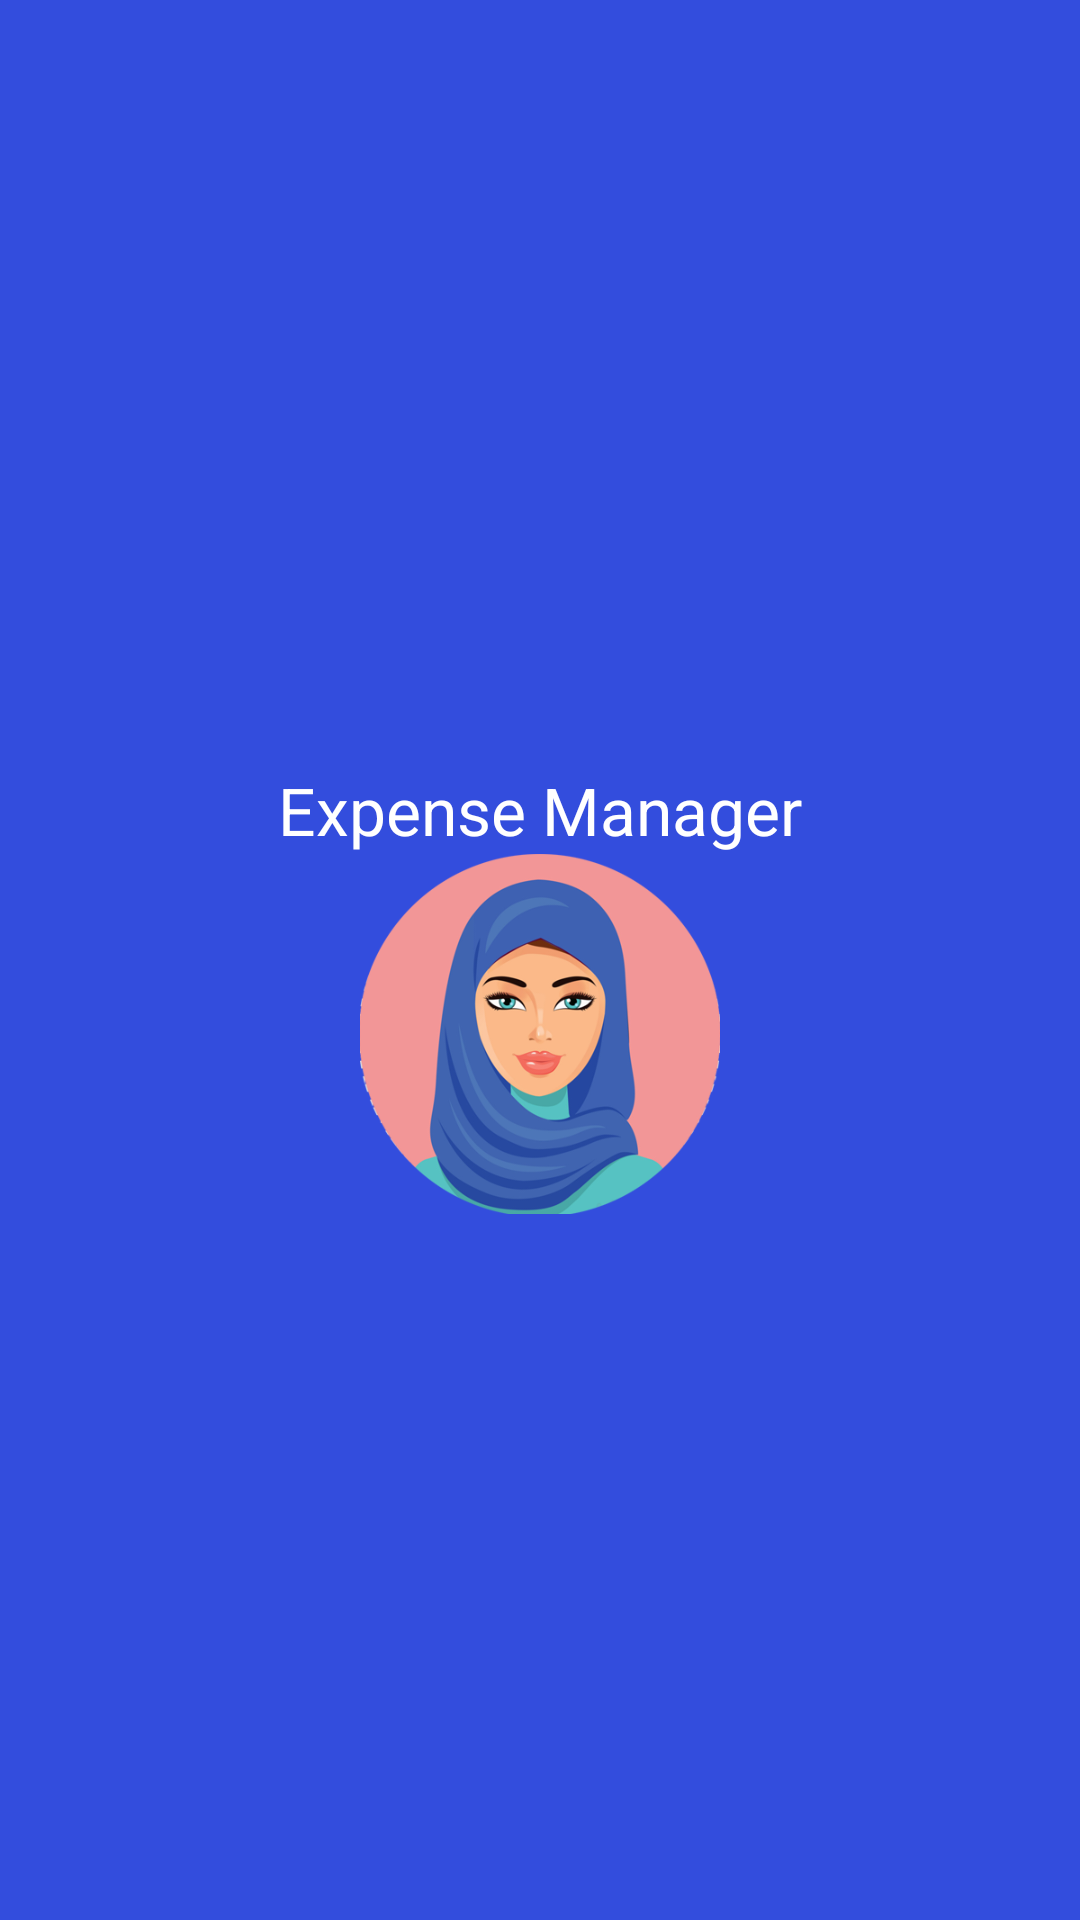

Icons on this 1080 × 1920 Android screen, each with its box as detection(x1, y1, x2, y2):
hijab: detection(360, 854, 720, 1214)
